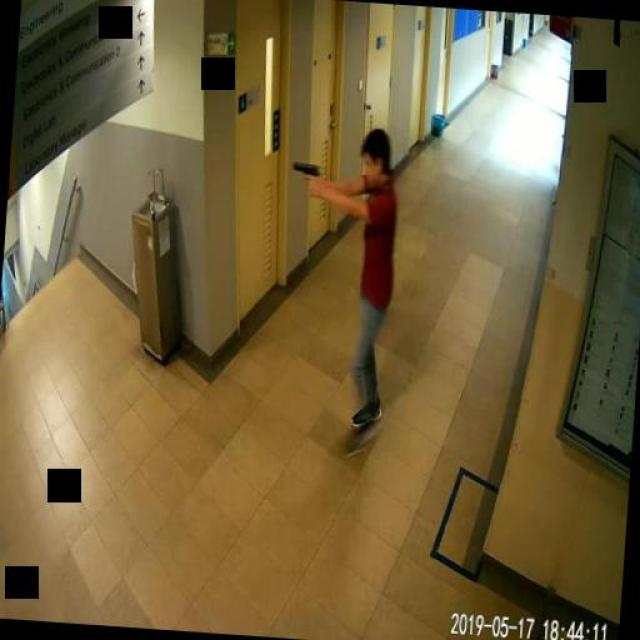gun: (290, 159, 320, 196)
